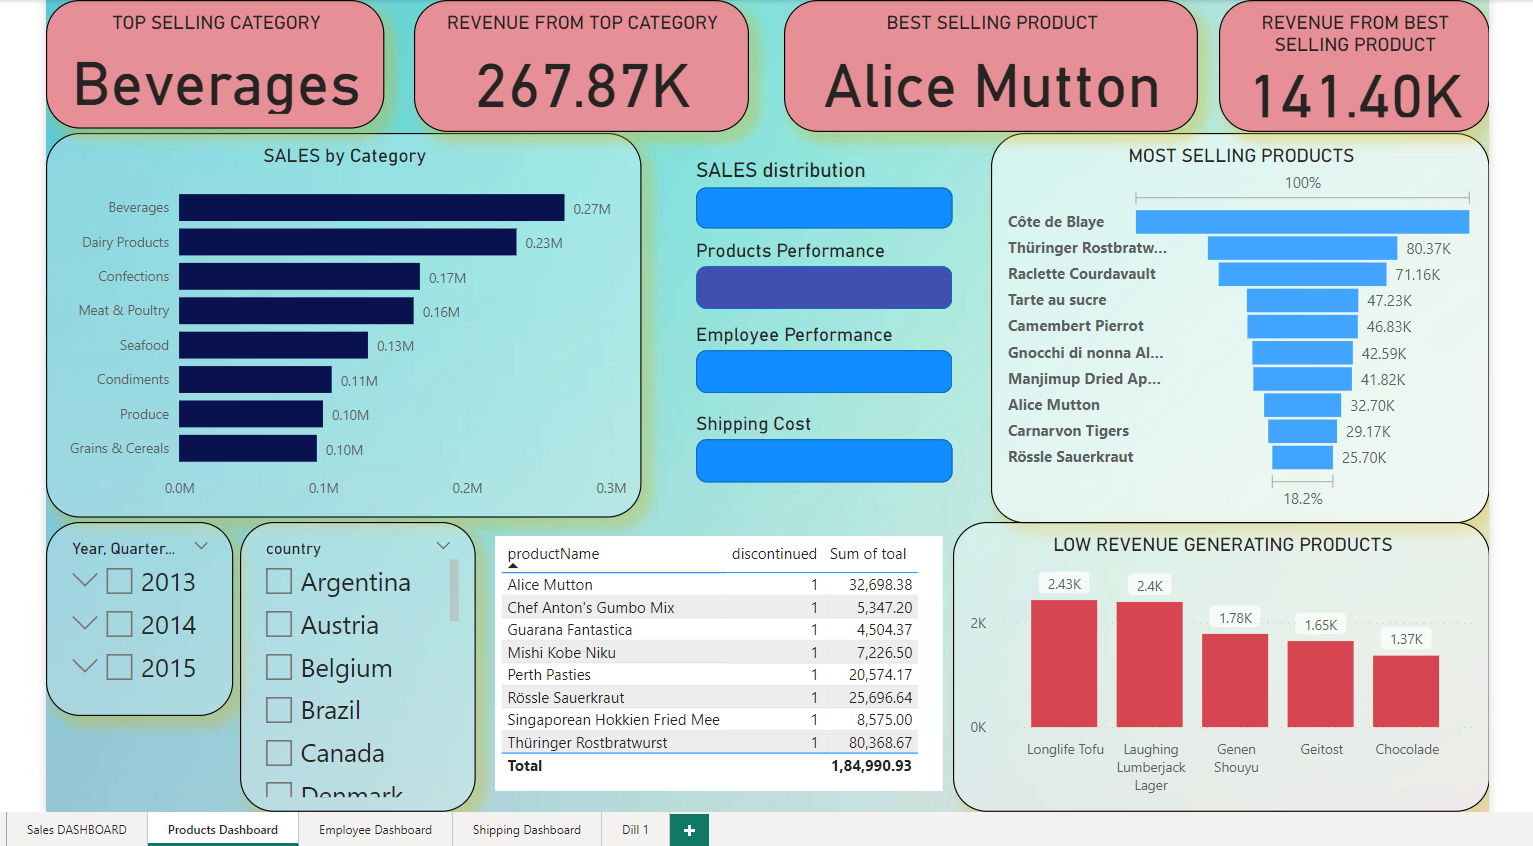

The page's visual inventory and layout, read from the dashboard file:
{"tool":"powerbi","page":{"name":"Products Dashboard","canvas":[1280,720],"ordinal":1},"visuals":[{"type":"barChart","title":"SALES by Category","fields":{"Category":["categories.categoryName"],"Y":["Sum(order_details.toal)"]},"box":[0,118.3,527.8,341.2],"z":0},{"type":"funnel","title":"MOST SELLING PRODUCTS","fields":{"Category":["products.productName"],"Y":["Sum(order_details.toal)"]},"box":[837.9,117.8,442.1,345.6],"z":1000},{"type":"lineStackedColumnComboChart","title":"LOW REVENUE GENERATING PRODUCTS","fields":{"Category":["products.productName"],"Y":["Sum(order_details.toal)"]},"box":[803.8,463.1,476.5,256.9],"z":2000},{"type":"slicer","fields":{"Values":["orders.orderDate.Variation.Date Hierarchy.Year","orders.orderDate.Variation.Date Hierarchy.Quarter","orders.orderDate.Variation.Date Hierarchy.Month","orders.orderDate.Variation.Date Hierarchy.Day"]},"box":[0,463.1,166.4,171.7],"z":3000},{"type":"card","title":"TOP SELLING CATEGORY","fields":{"Values":["Min(categories.categoryName)"]},"box":[0,0,300.3,113.7],"z":4000},{"type":"card","title":"BEST SELLING PRODUCT","fields":{"Values":["Min(products.productName)"]},"box":[654.8,0,367.3,117.1],"z":5000},{"type":"card","title":"REVENUE FROM TOP CATEGORY","fields":{"Values":["Sum(order_details.toal)"]},"box":[326.1,0,296.8,117.1],"z":6000},{"type":"card","title":"REVENUE FROM BEST SELLING PRODUCT","fields":{"Values":["Sum(order_details.toal)"]},"box":[1040.4,0,239.6,117.1],"z":7000},{"type":"slicer","fields":{"Values":["customers.country"]},"box":[171.7,463.1,208.9,256.9],"z":8000},{"type":"shape","title":"SALES distribution","box":[576.3,139.7,227.6,62.6],"z":9000},{"type":"shape","title":"Products Performance","box":[576.3,212.3,227.5,62.2],"z":10000},{"type":"shape","title":"Employee Performance","box":[576.3,286.6,227.5,62.2],"z":11000},{"type":"shape","title":"Shipping Cost","box":[576.5,365.7,227.6,62.6],"z":12000},{"type":"tableEx","fields":{"Values":["products.productName","products.discontinued","Sum(order_details.toal)"]},"box":[397.9,475.1,396.6,226.2],"z":13000}]}

Visuals, with their boxes on the page's 1280x720 design canvas (x1, y1, x2, y2). These are canvas units, not pixel positions in the 1533x846 screenshot, which may show the page scaled, cropped or inside an application window:
"SALES by Category" barChart: left=0, top=118, right=528, bottom=460
"MOST SELLING PRODUCTS" funnel: left=838, top=118, right=1280, bottom=463
"LOW REVENUE GENERATING PRODUCTS" lineStackedColumnComboChart: left=804, top=463, right=1280, bottom=720
slicer - orders.orderDate.Variation.Date Hierarchy.Year x orders.orderDate.Variation.Date Hierarchy.Quarter: left=0, top=463, right=166, bottom=635
"TOP SELLING CATEGORY" card: left=0, top=0, right=300, bottom=114
"BEST SELLING PRODUCT" card: left=655, top=0, right=1022, bottom=117
"REVENUE FROM TOP CATEGORY" card: left=326, top=0, right=623, bottom=117
"REVENUE FROM BEST SELLING PRODUCT" card: left=1040, top=0, right=1280, bottom=117
slicer - customers.country: left=172, top=463, right=381, bottom=720
"SALES distribution" shape: left=576, top=140, right=804, bottom=202
"Products Performance" shape: left=576, top=212, right=804, bottom=274
"Employee Performance" shape: left=576, top=287, right=804, bottom=349
"Shipping Cost" shape: left=576, top=366, right=804, bottom=428
tableEx - products.productName x products.discontinued: left=398, top=475, right=794, bottom=701
